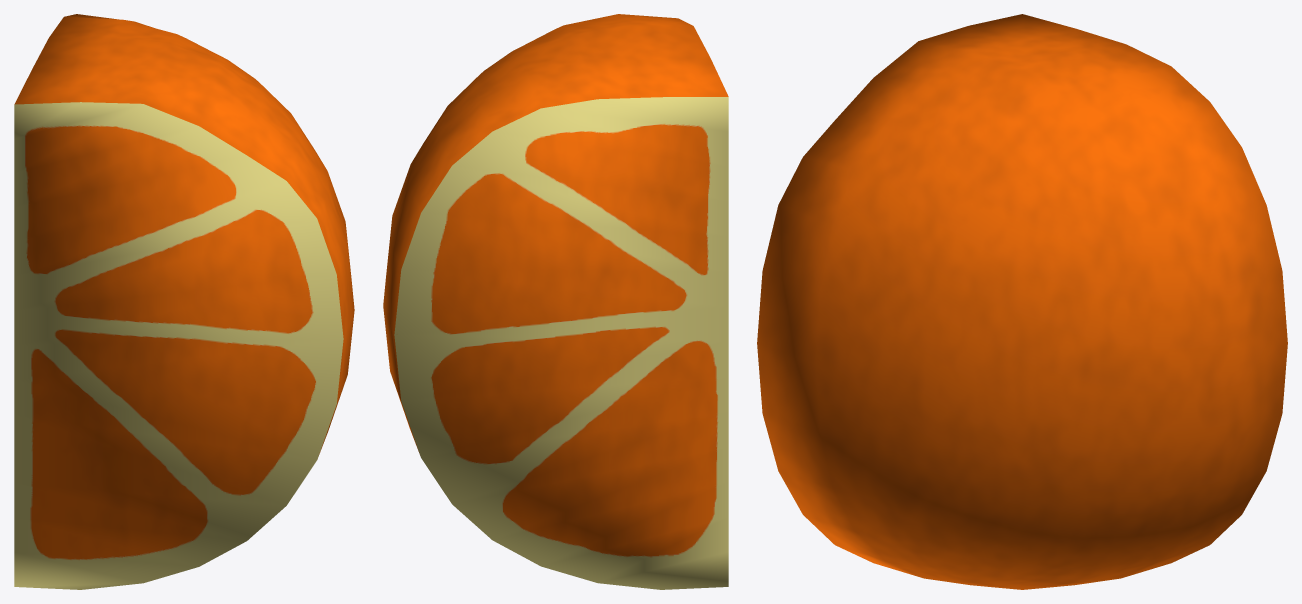
The model's file is orangeSliced.fbx.
3 renders of one model, left to right at view 1: azimuth 30°, elevation 25°; view 2: azimuth 150°, elevation 25°; view 3: azimuth 270°, elevation 25°, orthographic. The views are drawn at different scales.
Visible parts, largest first — view 1: orangeSliced_LOD0; view 2: orangeSliced_LOD0; view 3: orangeSliced_LOD0.
Boxes of the visible parts, <box> form: orangeSliced_LOD0: <box>14,14,354,589</box>; orangeSliced_LOD0: <box>383,14,728,589</box>; orangeSliced_LOD0: <box>757,14,1287,589</box>.
Size of what is drawn, in the model's own units: 0.0613 by 0.1005 by 0.0867.
1 material, 1 textured.
